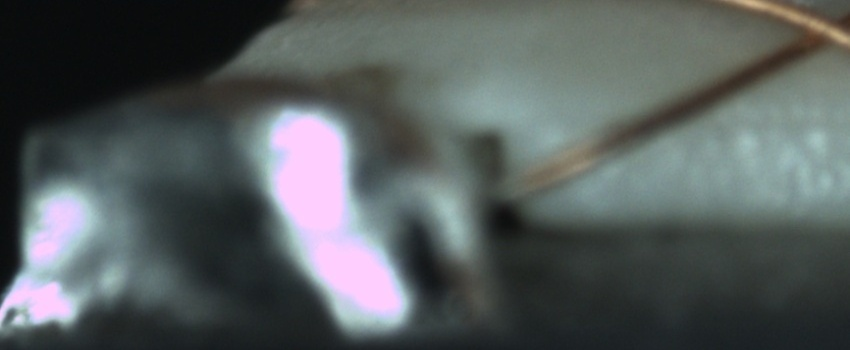CL: (772, 5, 847, 62)
DL: (689, 94, 848, 156)
